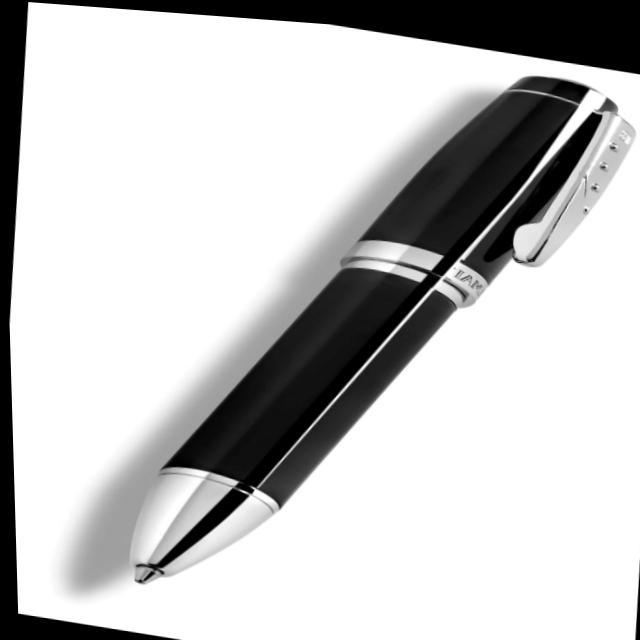pencil: (103, 63, 635, 589)
